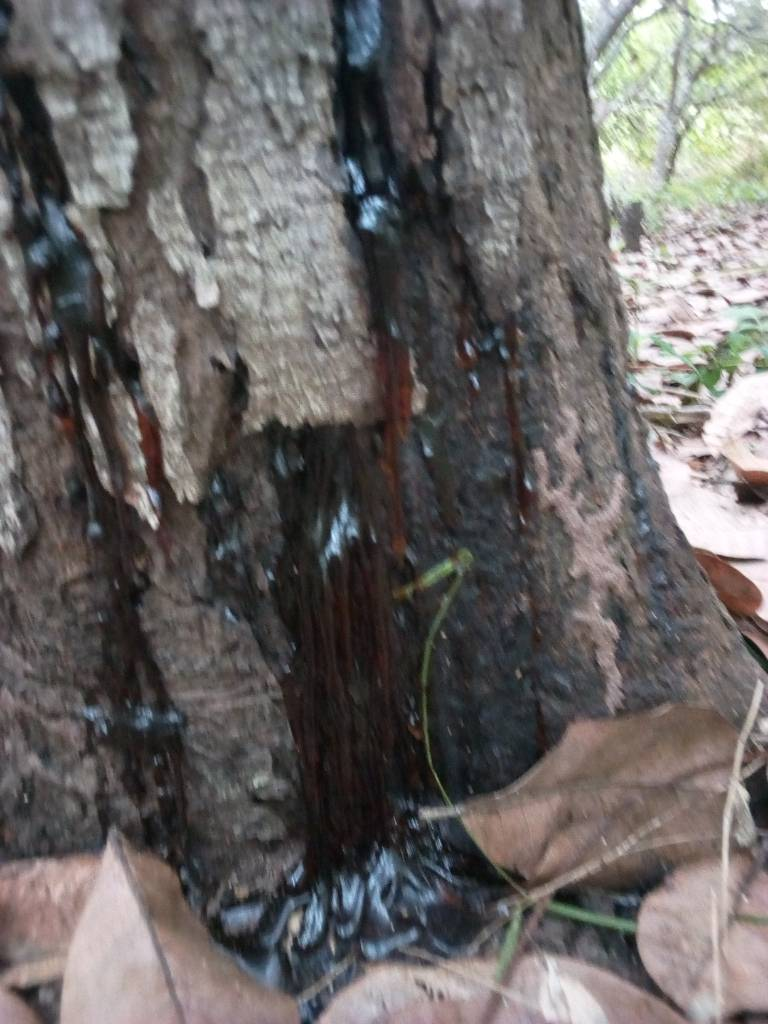Gommose: (302, 474, 411, 863), (97, 586, 190, 830)
